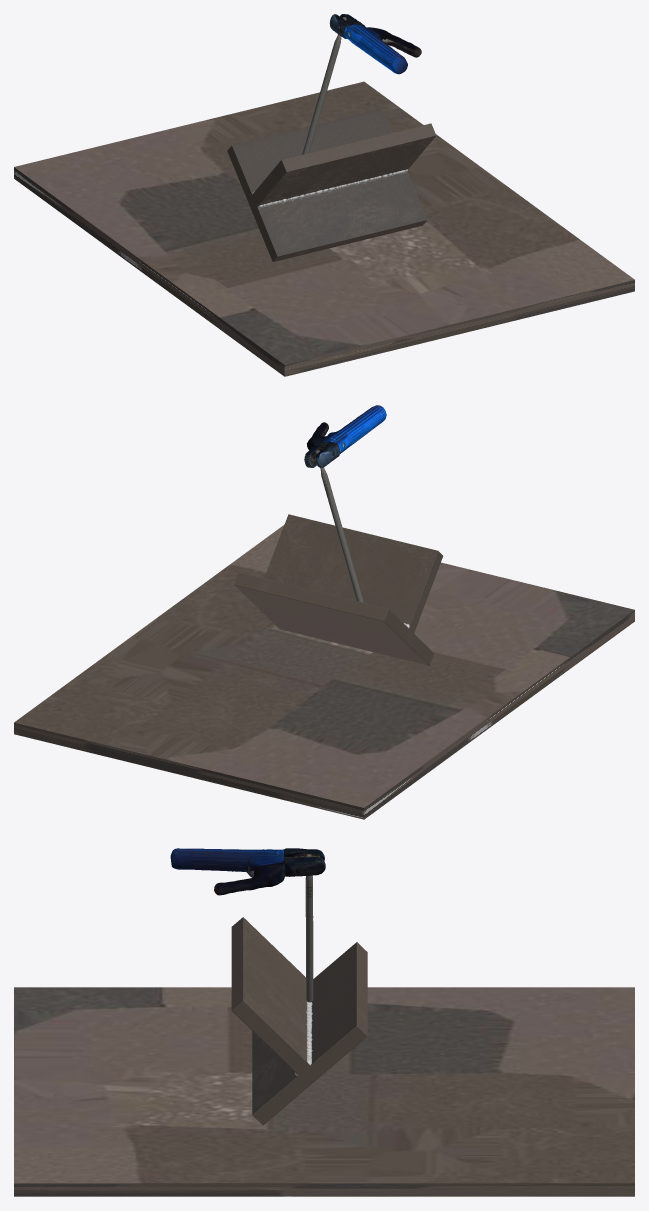
Rendered from sudut-ko-anim.glb.
The picture shows the model from 3 angles, top to bottom: view 1: azimuth 30°, elevation 25°; view 2: azimuth 150°, elevation 25°; view 3: azimuth 270°, elevation 25°; orthographic projection. The views are drawn at different scales.
Parts seen in each view (by area): view 1: Meshy_Welded Steel T-Joint_mesh_node, 3DModel; view 2: Meshy_Welded Steel T-Joint_mesh_node, 3DModel; view 3: Meshy_Welded Steel T-Joint_mesh_node, 3DModel.
Boxes of the visible parts, left/top/right/bottom form: Meshy_Welded Steel T-Joint_mesh_node: left=14, top=81, right=634, bottom=376; 3DModel: left=302, top=14, right=421, bottom=154; Meshy_Welded Steel T-Joint_mesh_node: left=14, top=514, right=634, bottom=819; 3DModel: left=304, top=405, right=386, bottom=602; Meshy_Welded Steel T-Joint_mesh_node: left=14, top=917, right=634, bottom=1196; 3DModel: left=170, top=848, right=325, bottom=1002.
Size of the model in its own units: 4.44 by 2.7 by 5.95.
Materials: 3 (3 with a texture image).
